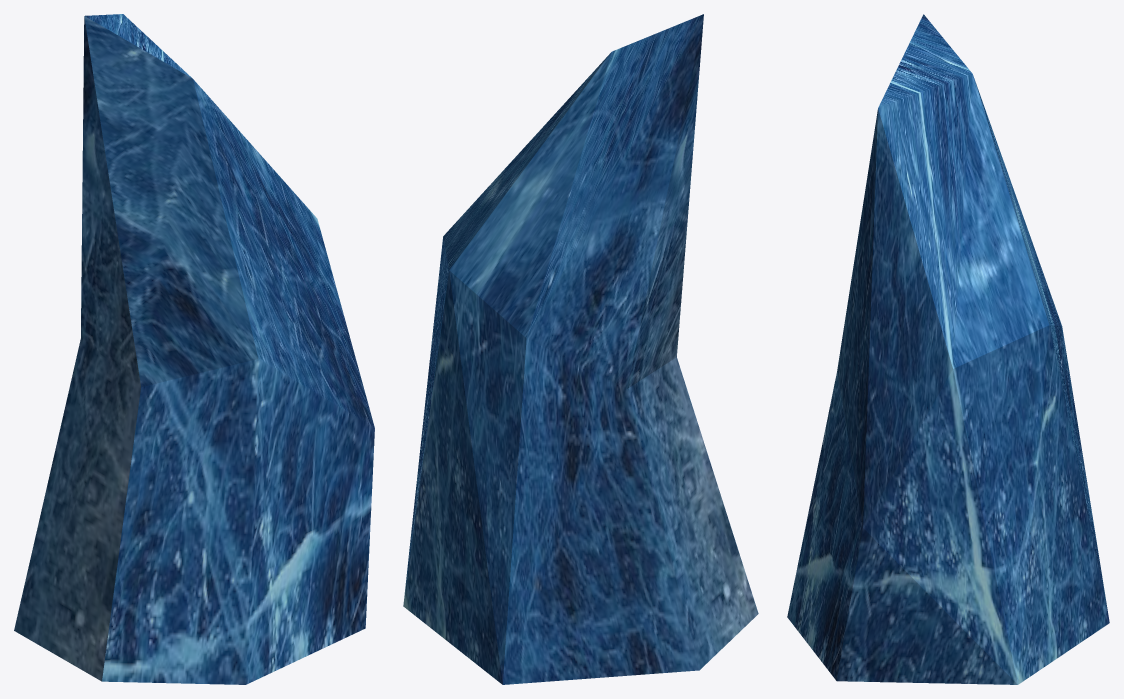
The model's file is ice spikes testfbx.fbx.
The picture shows the model from 3 angles, left to right: view 1: azimuth 30°, elevation 25°; view 2: azimuth 150°, elevation 25°; view 3: azimuth 270°, elevation 25°; orthographic projection. The views are drawn at different scales.
Visible parts, largest first — view 1: Cylinder.001; view 2: Cylinder.001; view 3: Cylinder.001.
Part boxes in pixels (x1=…): Cylinder.001: x1=14, y1=14, x2=374, y2=684; Cylinder.001: x1=403, y1=14, x2=758, y2=684; Cylinder.001: x1=787, y1=14, x2=1109, y2=684.
Bounding box in the file's own units: 204 × 427 × 220.
